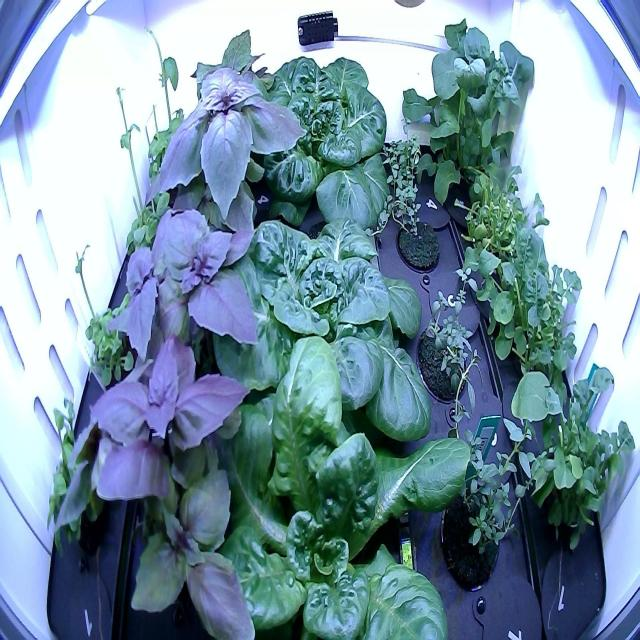Ready: (175, 318, 482, 639), (195, 190, 446, 476), (221, 29, 399, 268)
